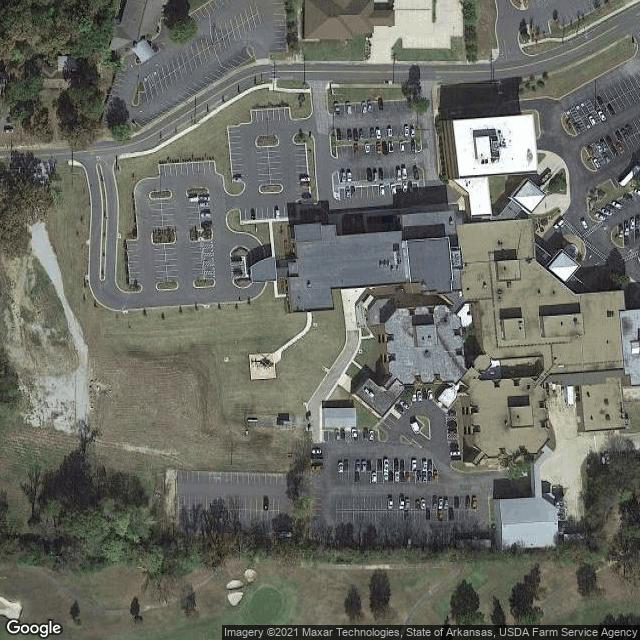Helipad: (243, 350, 281, 383)
